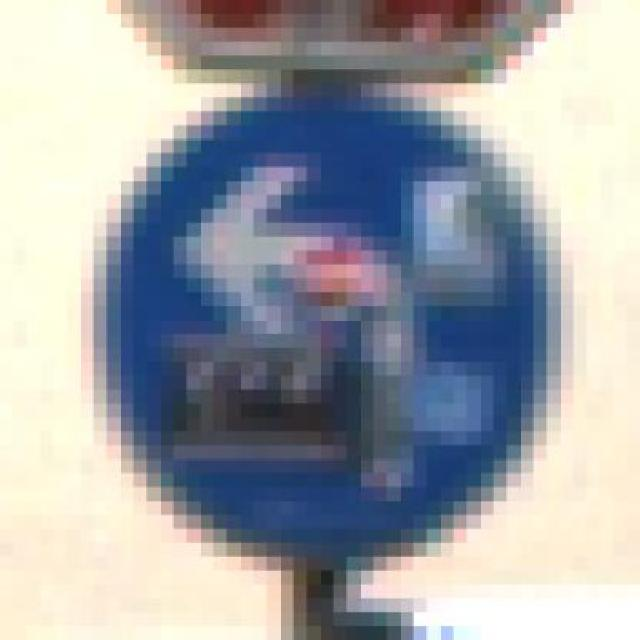Turn left ahead: (53, 83, 601, 585)
